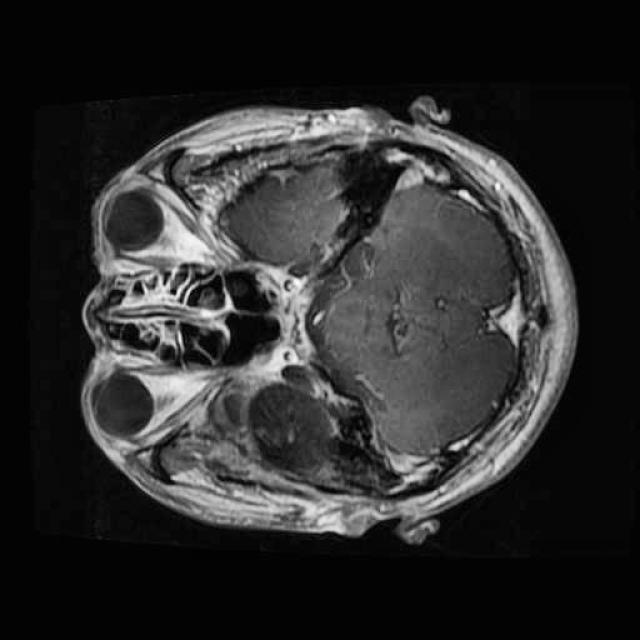Tumor: (239, 370, 349, 490)
